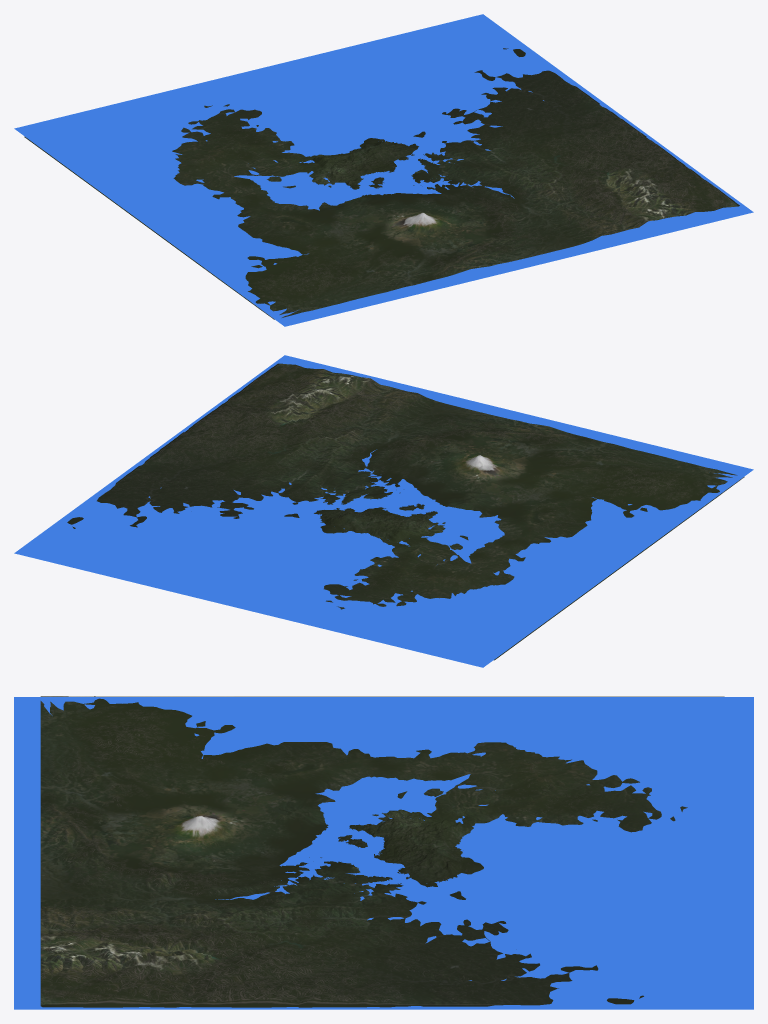
Rendered from large_stylized_japanese_terrain_mesh.glb.
3 views of the same model, one above another, from view 1: azimuth 30°, elevation 25°; view 2: azimuth 150°, elevation 25°; view 3: azimuth 270°, elevation 25° (orthographic). The views are drawn at different scales.
Parts seen in each view (by area): view 1: Terrain_0, Water.001_1; view 2: Terrain_0, Water.001_1; view 3: Terrain_0, Water.001_1.
Boxes of the visible parts, left/top/right/bottom form: Terrain_0: left=24, top=48, right=739, bottom=319; Water.001_1: left=14, top=14, right=753, bottom=326; Terrain_0: left=67, top=363, right=744, bottom=660; Water.001_1: left=14, top=355, right=753, bottom=667; Terrain_0: left=40, top=696, right=724, bottom=1007; Water.001_1: left=14, top=697, right=753, bottom=1009.
Size of the model in its own units: 1415 by 46.95 by 1413.
2 materials, 1 textured.
